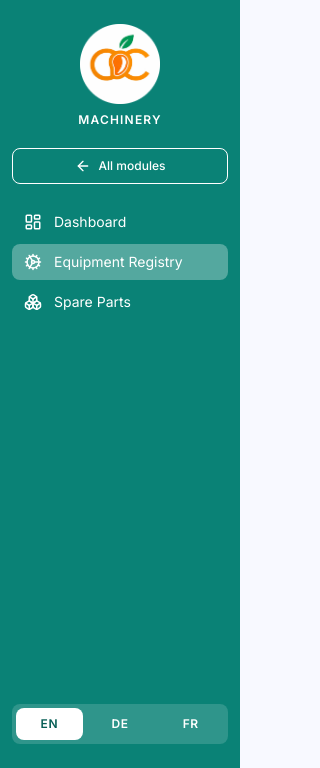
Scenario: Sidebar › switches the interface language and <html lang>
The image size is (320, 768).
What coordinates should you click on to do the following:
click the button with aria-label "Deutsch"
I would click on:
 (120, 724)
Its box is [87,708,153,740].
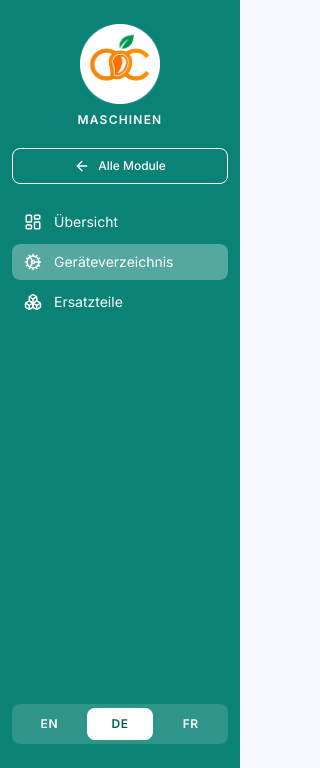
Now the link "Geräteverzeichnis" is shown, box [12,244,228,280]
What coordinates should you click on to do the following:
click the button with aria-label "Français"
I would click on:
 (191, 724)
Its box is [157,708,224,740].
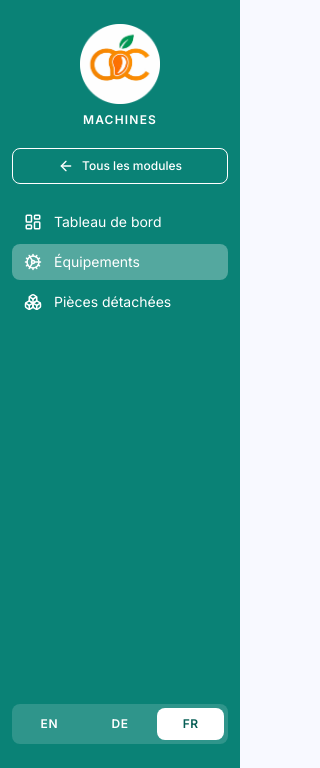
Now the link "Tous les modules" is shown, box [12,148,228,184]
